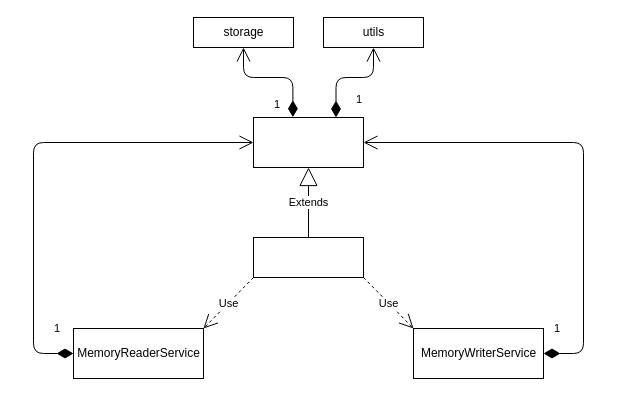
This 618x396 diagram has some shape labels left out. Here are the shapes that lost their labels. From the top down, the box of each, then its label:
(252, 116, 364, 168): «abstract» IStorage
(252, 236, 364, 278): MemoryService
